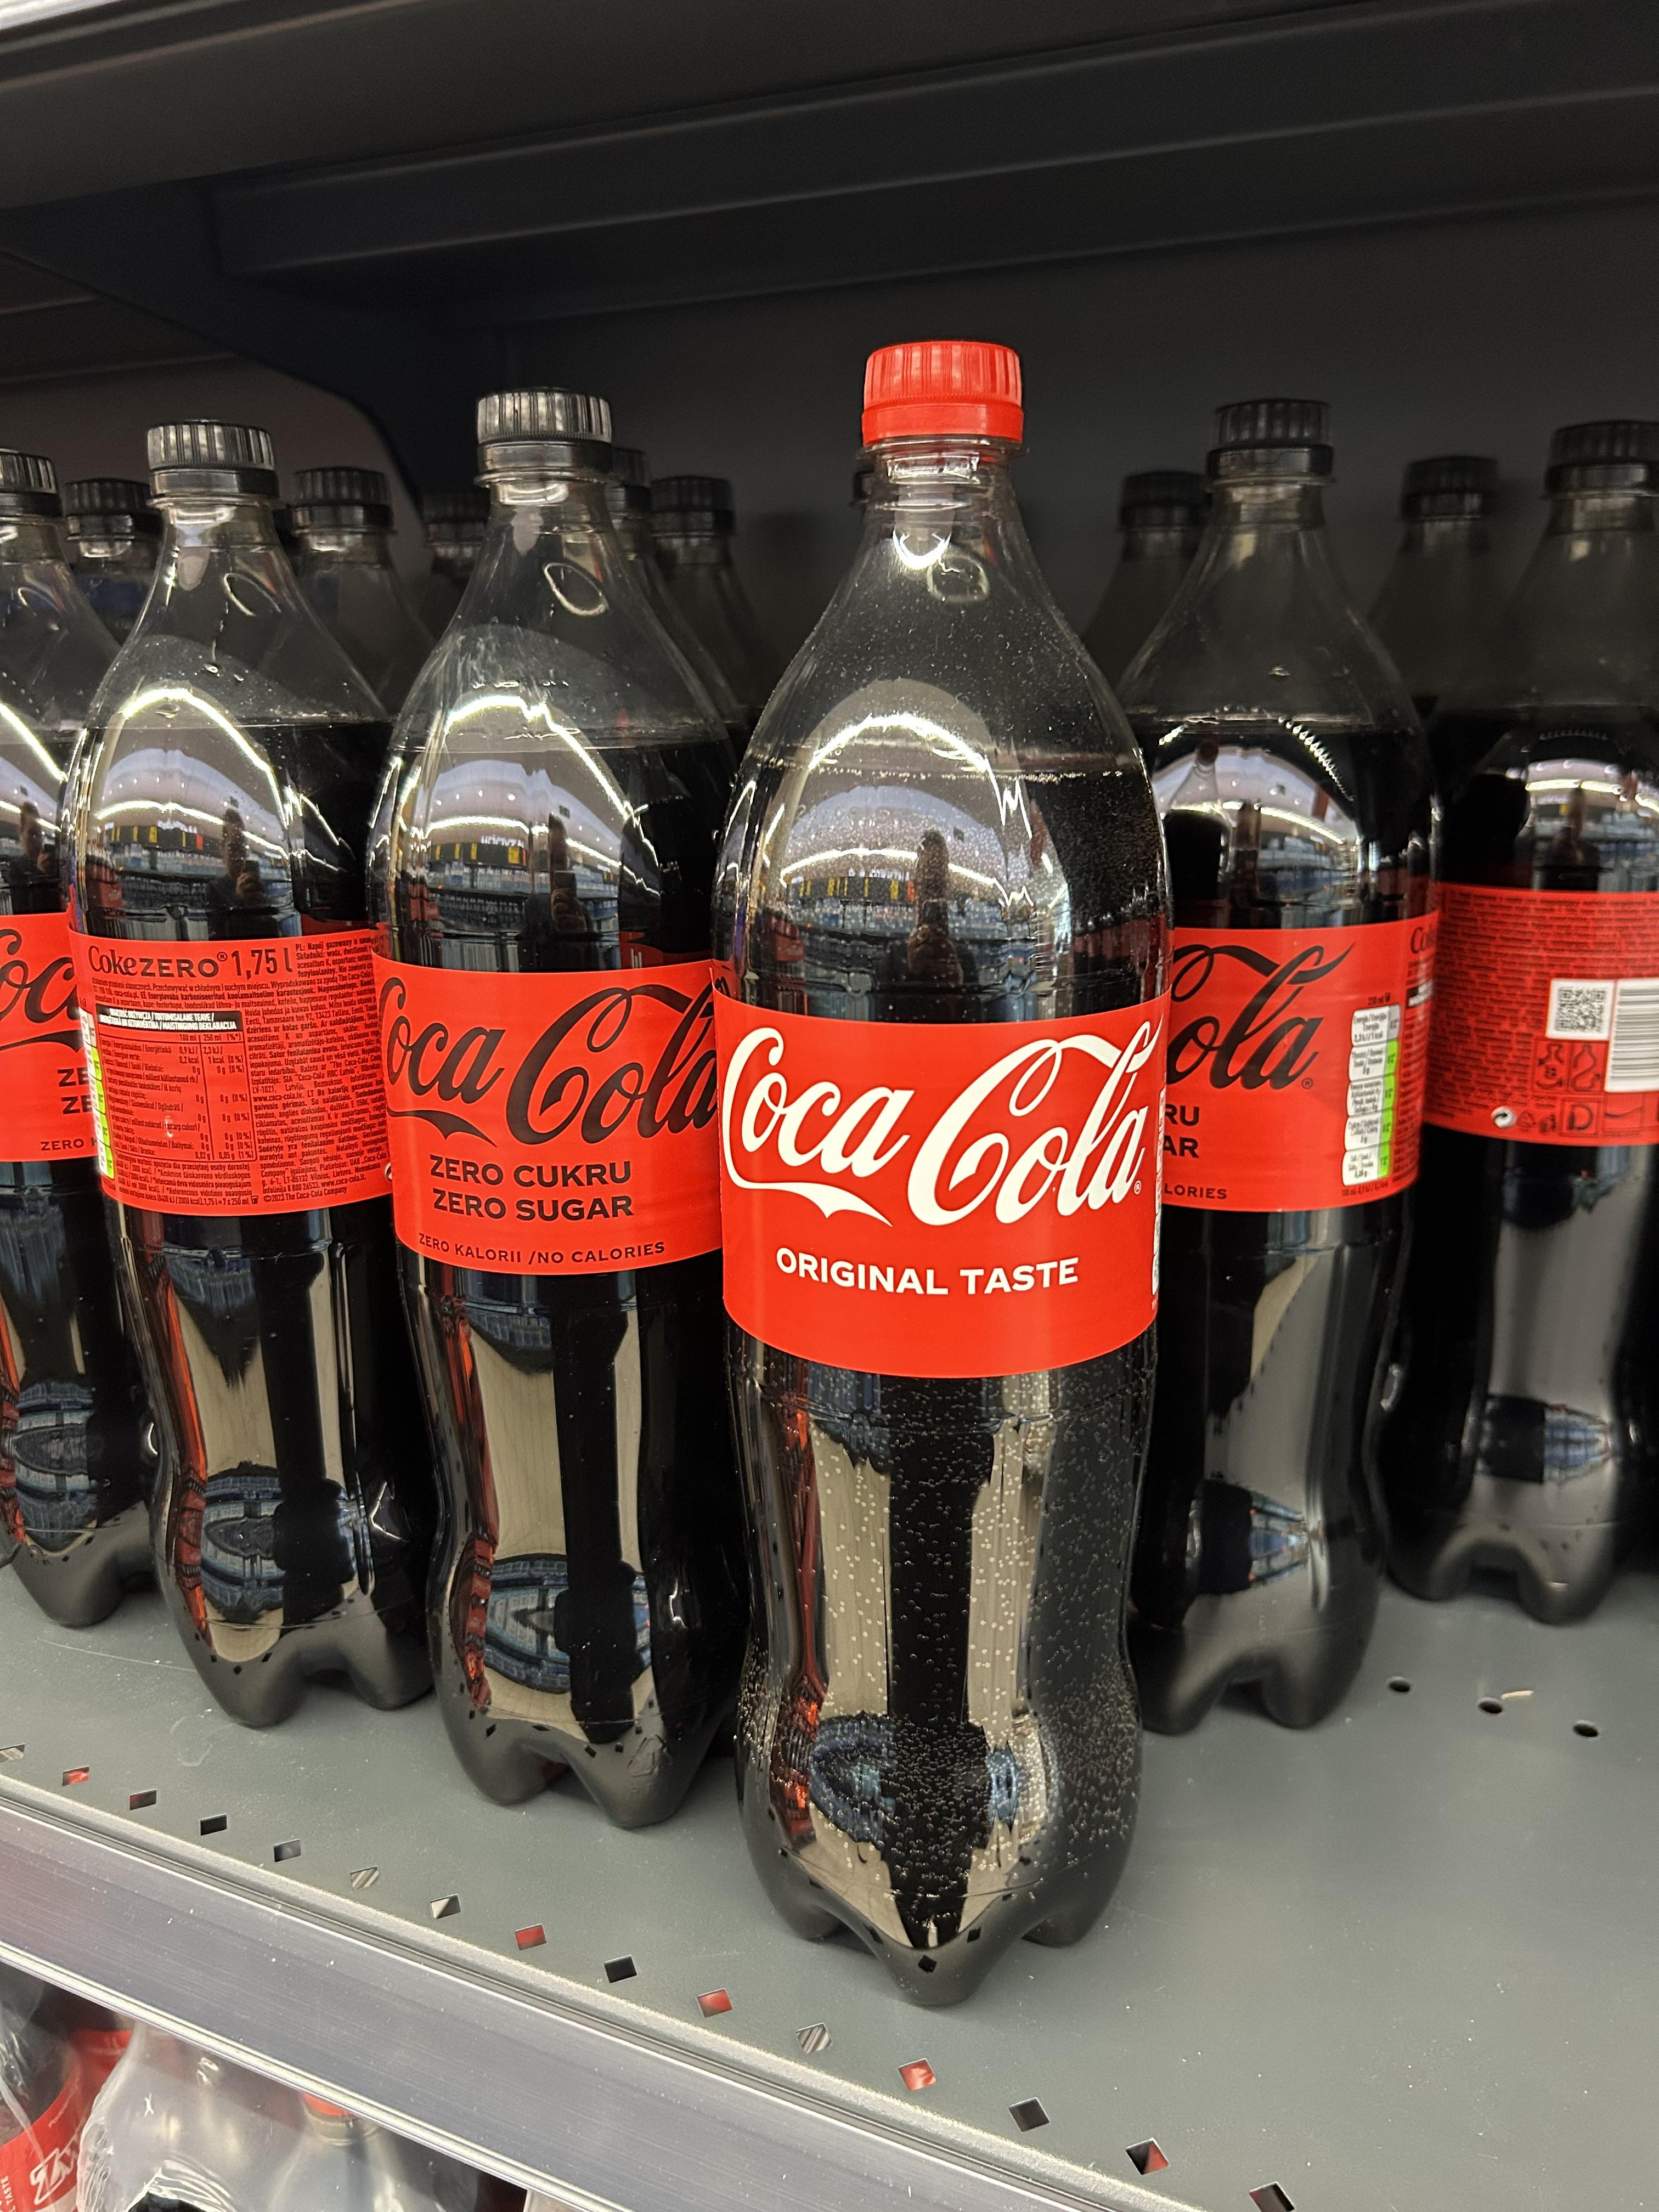Coca Cola: (718, 322, 1147, 2019), (73, 418, 479, 1759), (380, 376, 723, 1848), (1157, 394, 1439, 1759), (1457, 394, 1659, 1622), (3, 435, 171, 1648)
